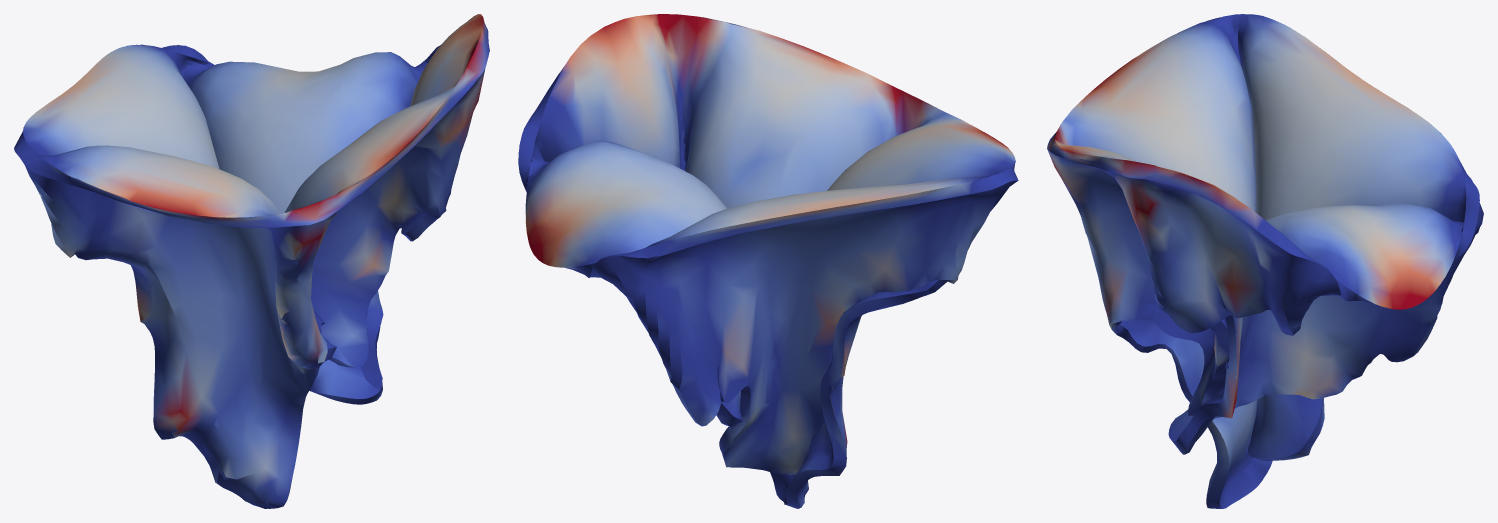
3 views of the same model, side by side, from view 1: azimuth 30°, elevation 25°; view 2: azimuth 150°, elevation 25°; view 3: azimuth 270°, elevation 25° (orthographic). The views are drawn at different scales.
Parts seen in each view (by area): view 1: OCS14_maxS_14; view 2: OCS14_maxS_14; view 3: OCS14_maxS_14.
Part boxes in pixels (left/top/right/bottom): OCS14_maxS_14: left=14, top=14, right=489, bottom=508; OCS14_maxS_14: left=518, top=14, right=1018, bottom=508; OCS14_maxS_14: left=1047, top=14, right=1483, bottom=508.
Bounding box in the file's own units: 1.42 × 1.28 × 1.19.
